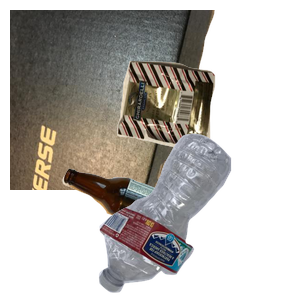cardboard: (10, 10, 217, 190)
glass: (60, 166, 241, 300)
plastic: (96, 131, 300, 300)
trash: (115, 58, 300, 200)
